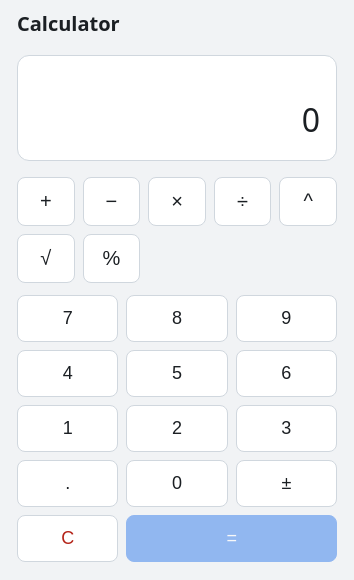
Test: App › cannot submit an incomplete computation
The image size is (354, 580).
Expected: the button named "Equals" is disabled, [126,515,337,562]
Click the button "1": (68, 428) [17,405,118,452]
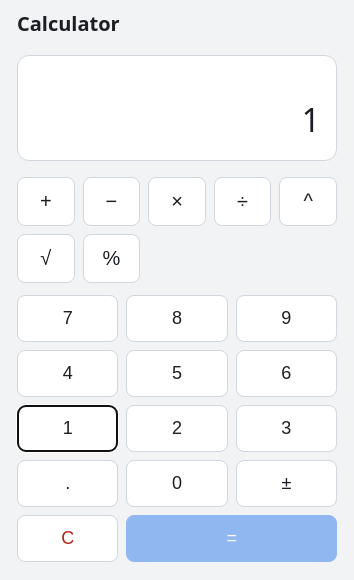
Click the button named "Addition": (46, 202) [17,177,75,226]
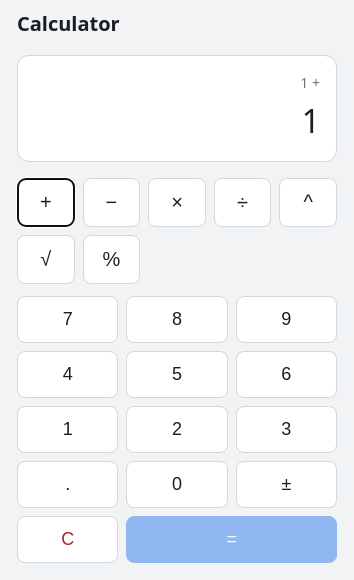
Expected: the button named "Equals" is disabled, [126,516,337,563]
Click the button "2": (177, 430) [126,406,228,453]
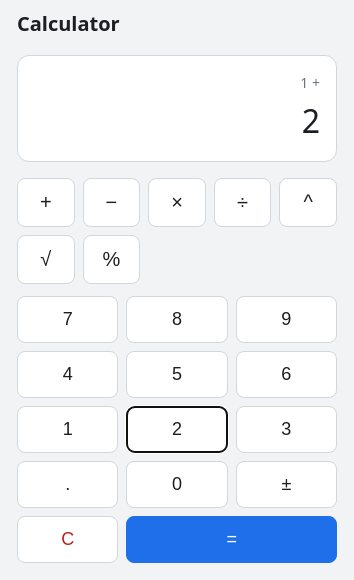
Result: the button named "Equals" is enabled at [126,516,337,563]
